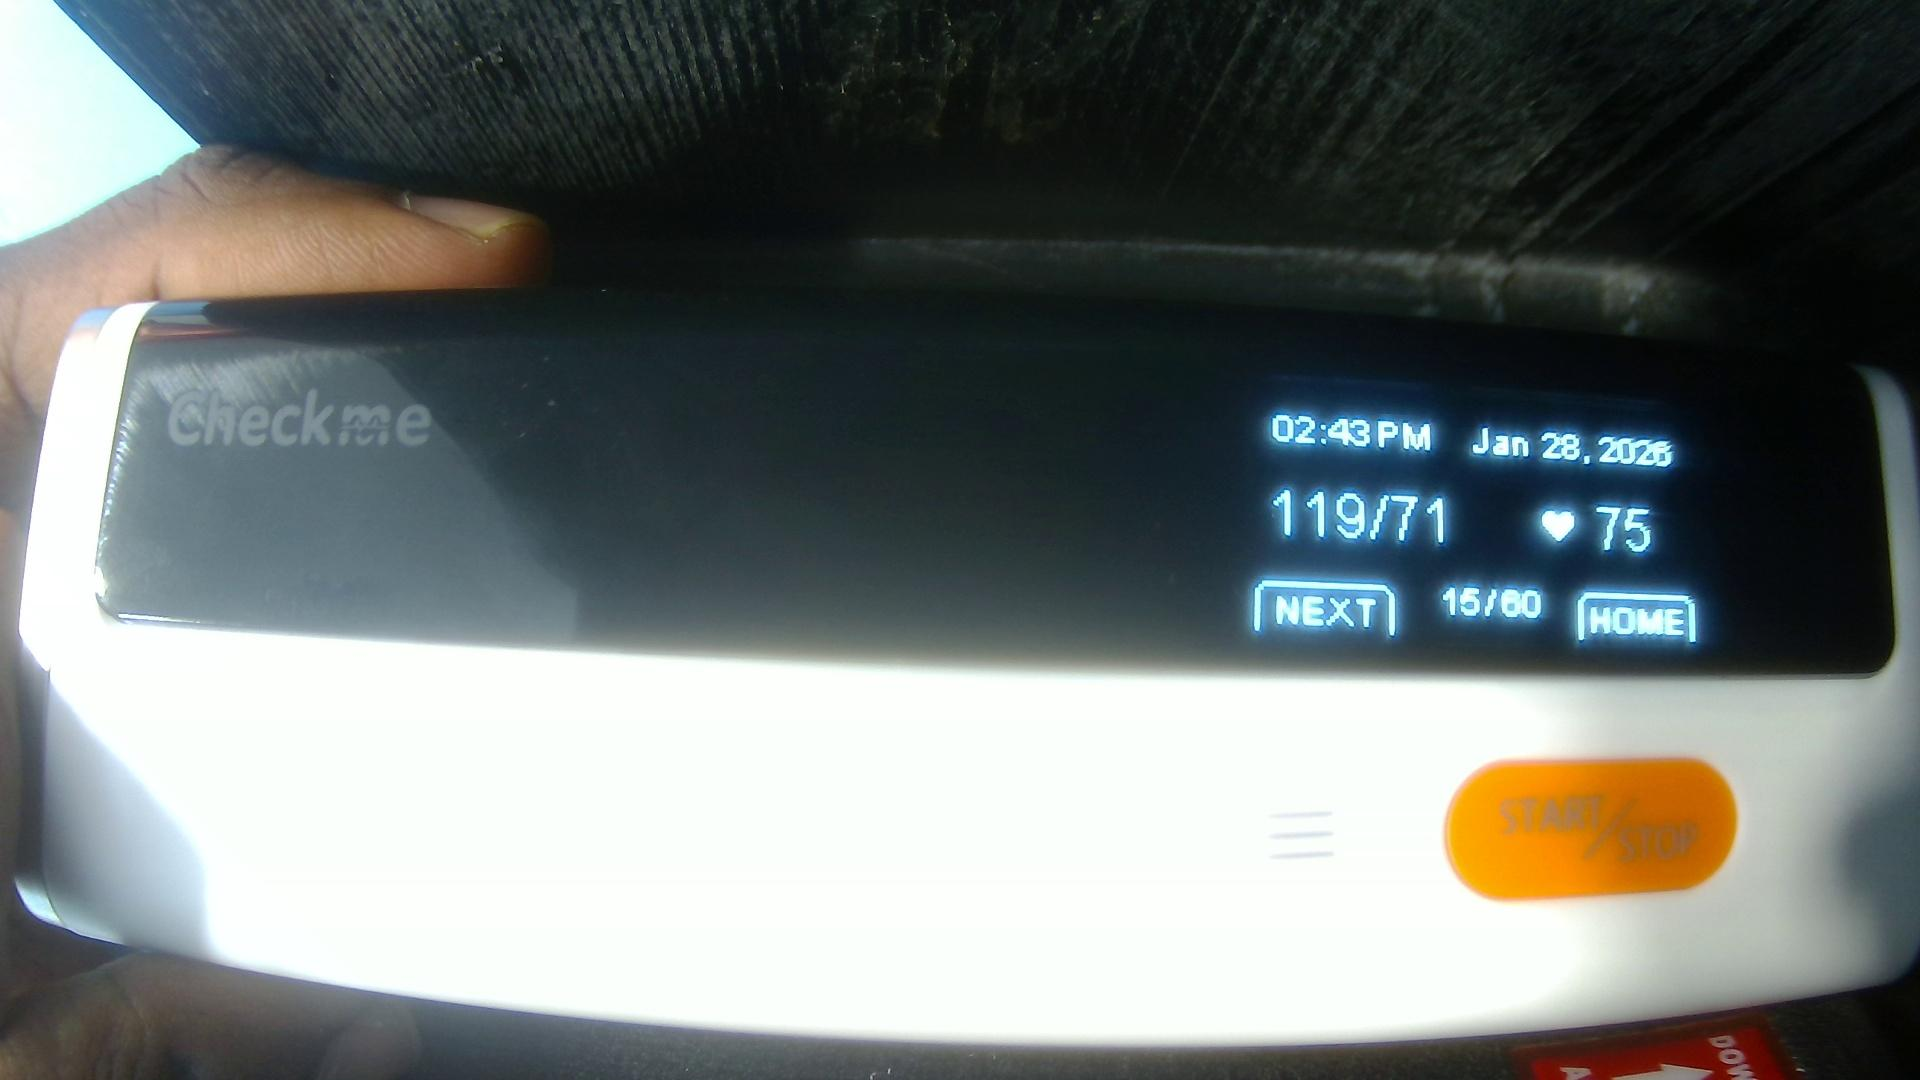DISPLAY: (102, 310, 1874, 667)
